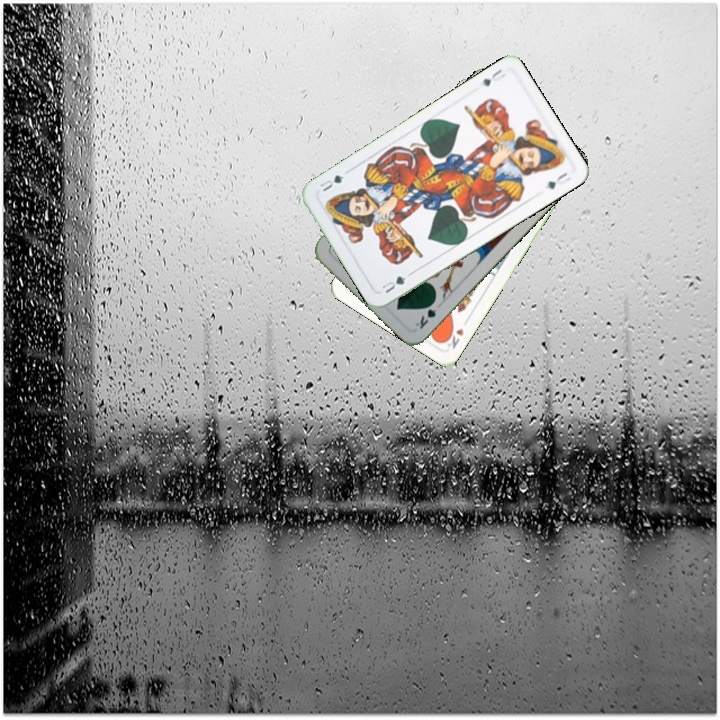GK: (411, 296, 439, 332)
GU: (378, 272, 409, 296), (478, 65, 508, 89)
HK: (440, 323, 466, 351)
